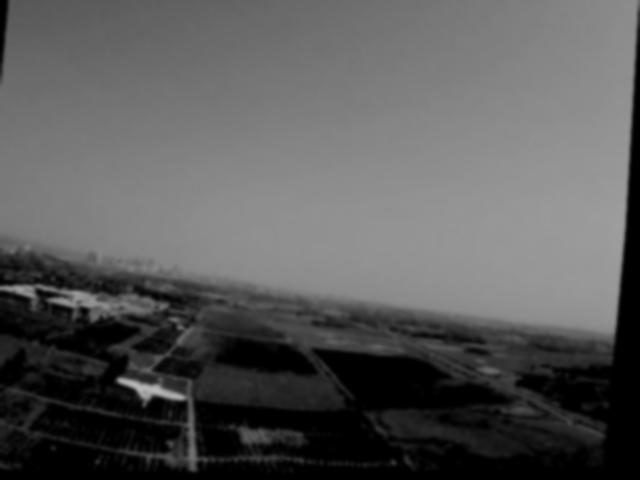hedef: (120, 369, 195, 414)
